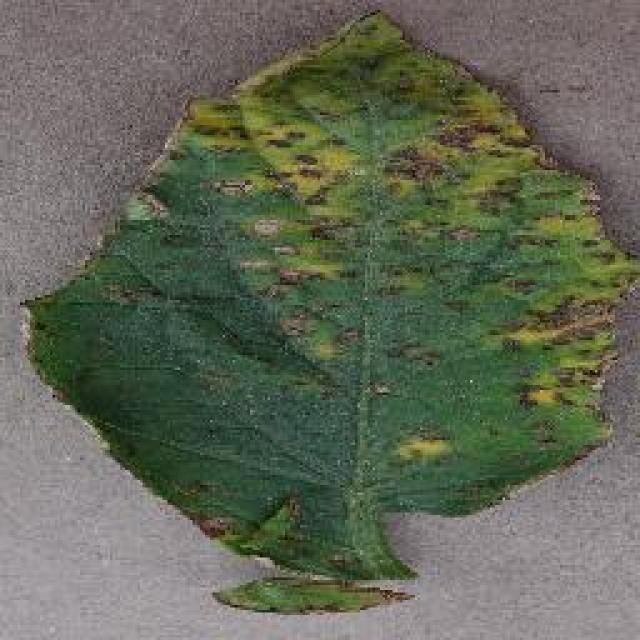Tomato bacterial spot leaf: (16, 3, 640, 576)
